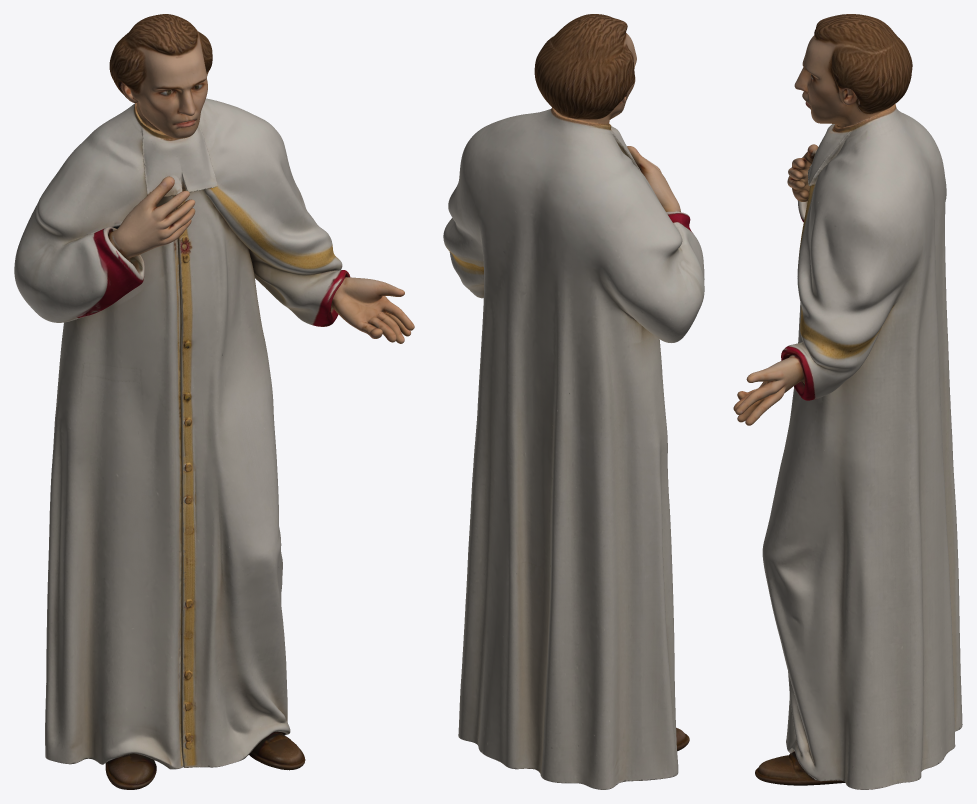
File: Hermano_Salomon.glb
3 views of the same model, side by side, from view 1: azimuth 30°, elevation 25°; view 2: azimuth 150°, elevation 25°; view 3: azimuth 270°, elevation 25° (orthographic).
Visible parts, largest first — view 1: model; view 2: model; view 3: model.
Part boxes in pixels (box(x1,y1,x2,y2)): model: box(14, 14, 414, 789); model: box(443, 14, 704, 789); model: box(733, 14, 962, 789).
Bounding box in the file's own units: 0.4492 × 1 × 0.2878.
Materials: 1 (1 with a texture image).
